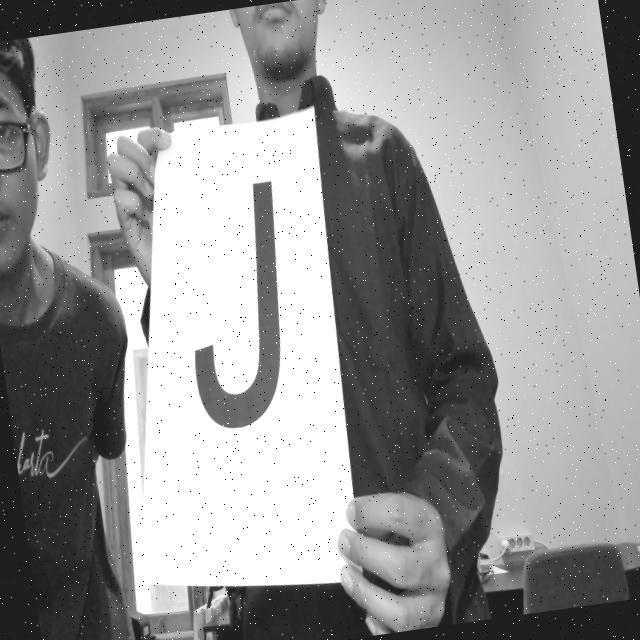j: (152, 160, 332, 480)
